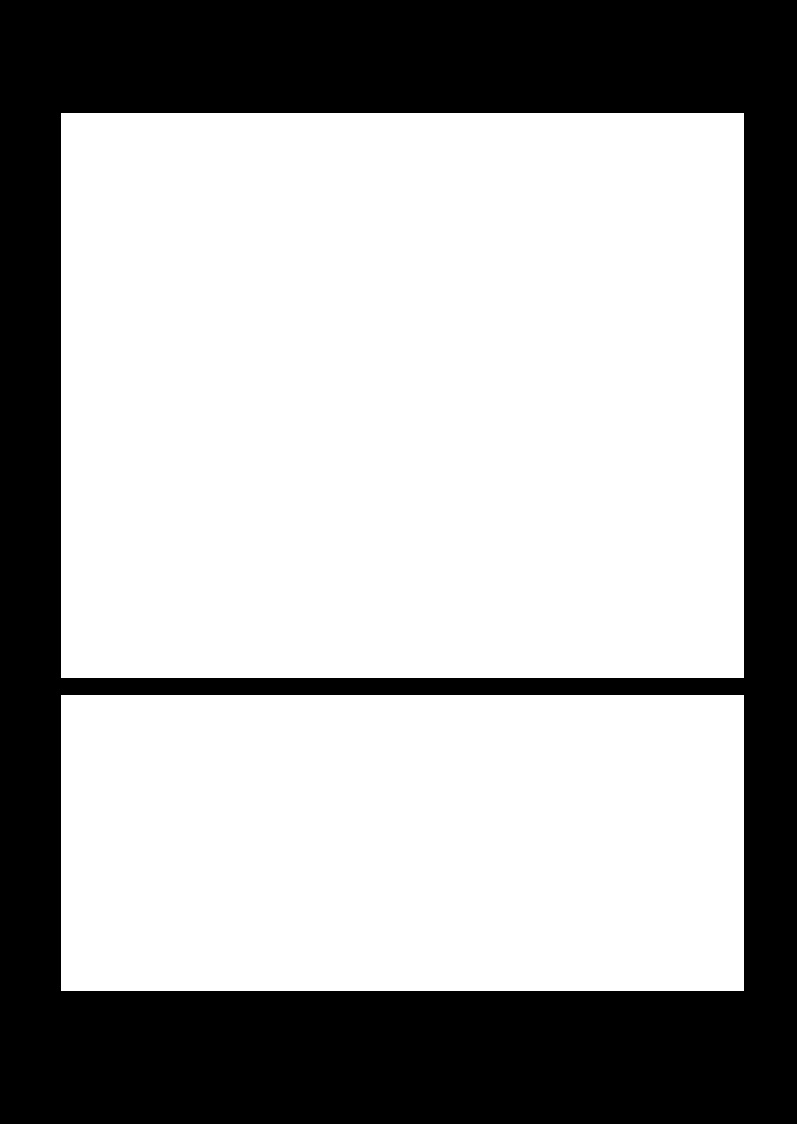table: (61, 113, 743, 677), (61, 695, 743, 990)
